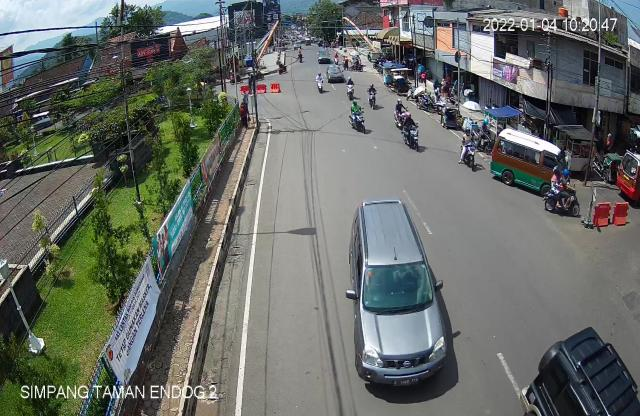Mobil: (338, 191, 452, 398), (486, 124, 570, 202)
Motor: (538, 166, 584, 219), (454, 126, 479, 173), (401, 110, 423, 155), (348, 96, 371, 136), (388, 96, 408, 129), (366, 83, 382, 111), (344, 77, 357, 100)
